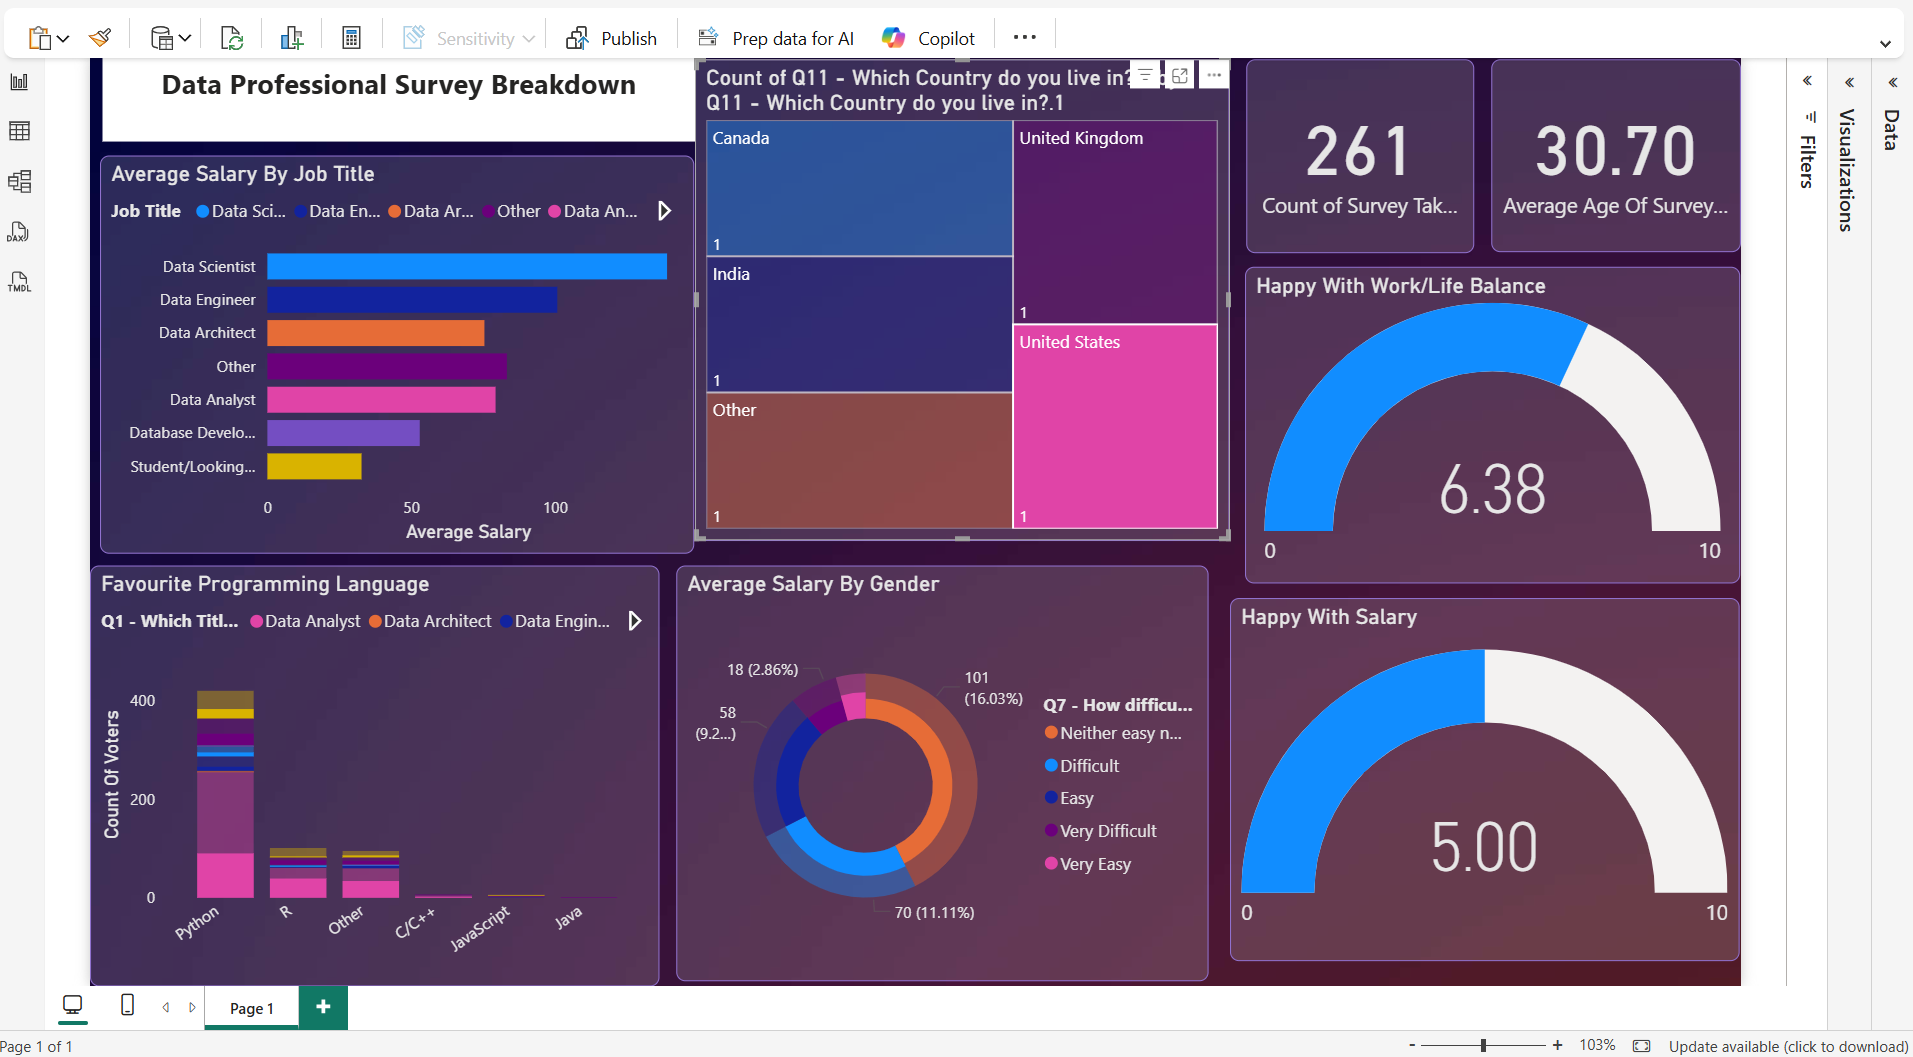

What the dashboard file says about the page in this screenshot:
{"tool":"powerbi","page":{"name":"Page 1","canvas":[1280,720],"ordinal":0},"visuals":[{"type":"textbox","box":[9.6,0,459.7,64.5],"z":0},{"type":"card","fields":{"Values":["Count(Data Professional Survey.Unique ID)"]},"box":[896.5,1.2,176.7,150],"z":1000},{"type":"card","fields":{"Values":["Avg(Data Professional Survey.Q10 - Current Age)"]},"box":[1086.8,1.4,193.5,149.6],"z":2000},{"type":"barChart","title":"Average Salary By Job Title","fields":{"Category":["Data Professional Survey.Q1 - Which Title Best Fits your Current Role?.1"],"Y":["Avg(Data Professional Survey.Average Salary)"],"Series":["Data Professional Survey.Q1 - Which Title Best Fits your Current Role?.1"]},"box":[8.2,75.5,461.1,308.7],"z":3000},{"type":"columnChart","title":"Favourite Programming Language","fields":{"Category":["Data Professional Survey.Q5 - Favorite Programming Language.1"],"Y":["CountNonNull(Data Professional Survey.Unique ID)"],"Series":["Data Professional Survey.Q1 - Which Title Best Fits your Current Role?.1"]},"box":[0,393.8,441.9,326.6],"z":4000},{"type":"treemap","fields":{"Group":["Data Professional Survey.Q11 - Which Country do you live in?.1"],"Values":["Count(Data Professional Survey.Q11 - Which Country do you live in?.1)"]},"box":[469.3,1.4,414.4,373.2],"z":5000},{"type":"gauge","title":" Happy With Work/Life Balance","fields":{"Y":["Avg(Data Professional Survey.Q6 - How Happy are you in your Current Position with the following? (Work/Life Balance))"],"MinValue":["Min(Data Professional Survey.Q6 - How Happy are you in your Current Position with the following? (Work/Life Balance))1"],"MaxValue":["Max(Data Professional Survey.Q6 - How Happy are you in your Current Position with the following? (Work/Life Balance))2"]},"box":[896.1,161.9,384.2,245.6],"z":6000},{"type":"gauge","title":"Happy With Salary","fields":{"Y":["Avg(Data Professional Survey.Q6 - How Happy are you in your Current Position with the following? (Salary))"],"MinValue":["Min(Data Professional Survey.Q6 - How Happy are you in your Current Position with the following? (Salary))"],"MaxValue":["Max(Data Professional Survey.Q6 - How Happy are you in your Current Position with the following? (Salary))"]},"box":[883.7,418.5,395.2,281.3],"z":7000},{"type":"donutChart","title":"Average Salary By Gender","fields":{"Category":["Data Professional Survey.Q7 - How difficult was it for you to break into Data?"],"Y":["CountNonNull(Data Professional Survey.Q7 - How difficult was it for you to break into Data?)"]},"box":[454.2,393.8,413,322.5],"z":8000}]}

Visuals, with their boxes on the page's 1280x720 design canvas (x1, y1, x2, y2). These are canvas units, not pixel positions in the 1913x1057 screenshot, which may show the page scaled, cropped or inside an application window:
textbox: <region>10, 0, 469, 64</region>
card - Count(Data Professional Survey.Unique ID): <region>896, 1, 1073, 151</region>
card - Avg(Data Professional Survey.Q10 - Current Age): <region>1087, 1, 1280, 151</region>
"Average Salary By Job Title" barChart: <region>8, 76, 469, 384</region>
"Favourite Programming Language" columnChart: <region>0, 394, 442, 720</region>
treemap - Data Professional Survey.Q11 - Which Country do you live in?.1 x Count(Data Professional Survey.Q11 - Which Country do you live in?.1): <region>469, 1, 884, 375</region>
" Happy With Work/Life Balance" gauge: <region>896, 162, 1280, 408</region>
"Happy With Salary" gauge: <region>884, 418, 1279, 700</region>
"Average Salary By Gender" donutChart: <region>454, 394, 867, 716</region>
